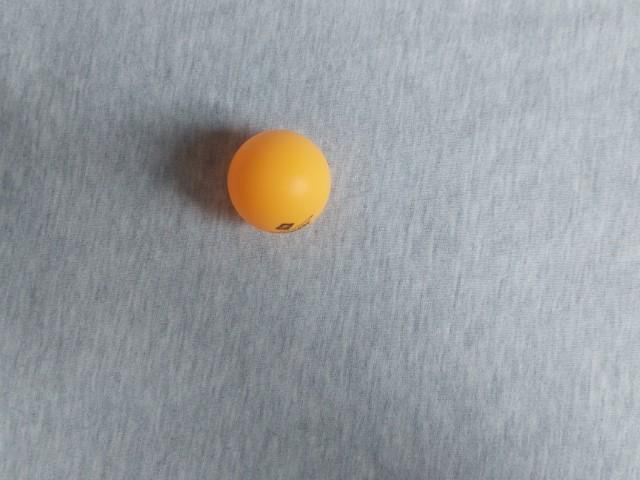oball: (297, 238, 417, 357)
